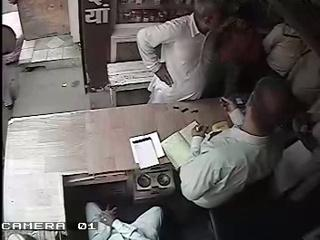Normal: (178, 76, 296, 210), (136, 0, 229, 104)
